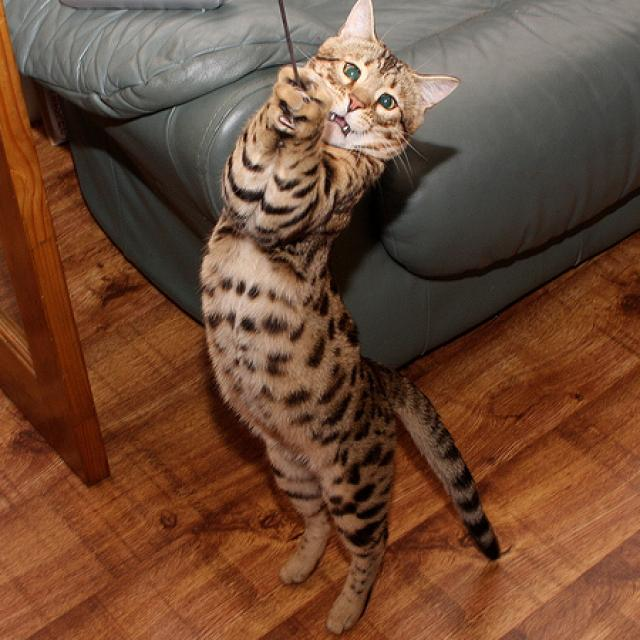Bengal: (189, 0, 511, 640)
